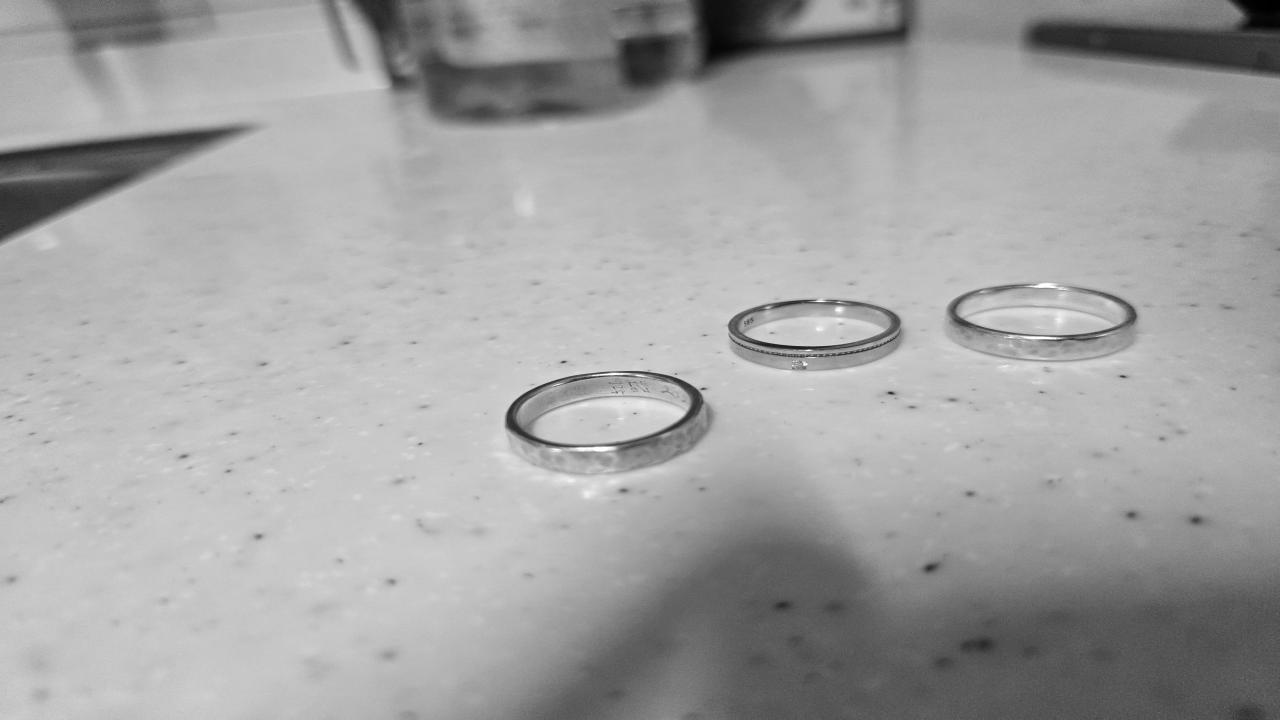ring: (503, 370, 710, 475), (946, 282, 1144, 361), (726, 298, 903, 372)
